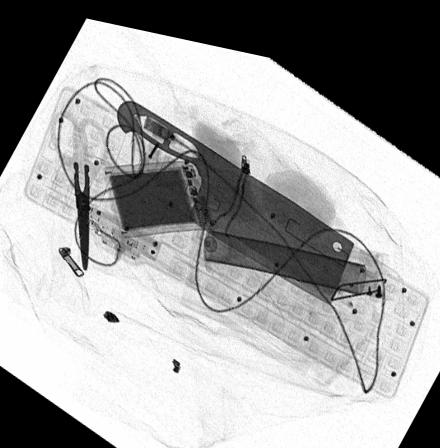Knife: (114, 94, 356, 291)
Powerbank: (99, 154, 213, 231)
Scissors: (50, 106, 112, 268)
